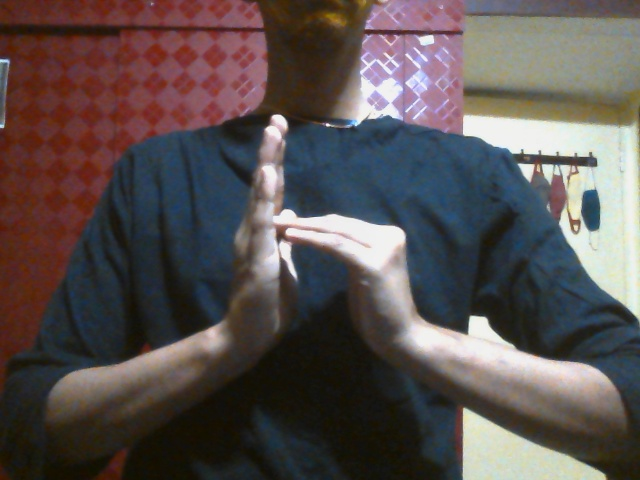Z: (200, 109, 441, 374)
